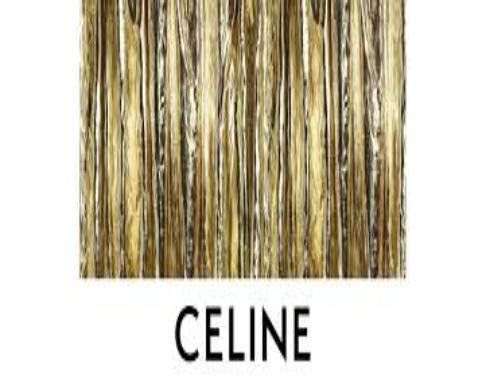CELINE: (169, 289, 317, 380)
